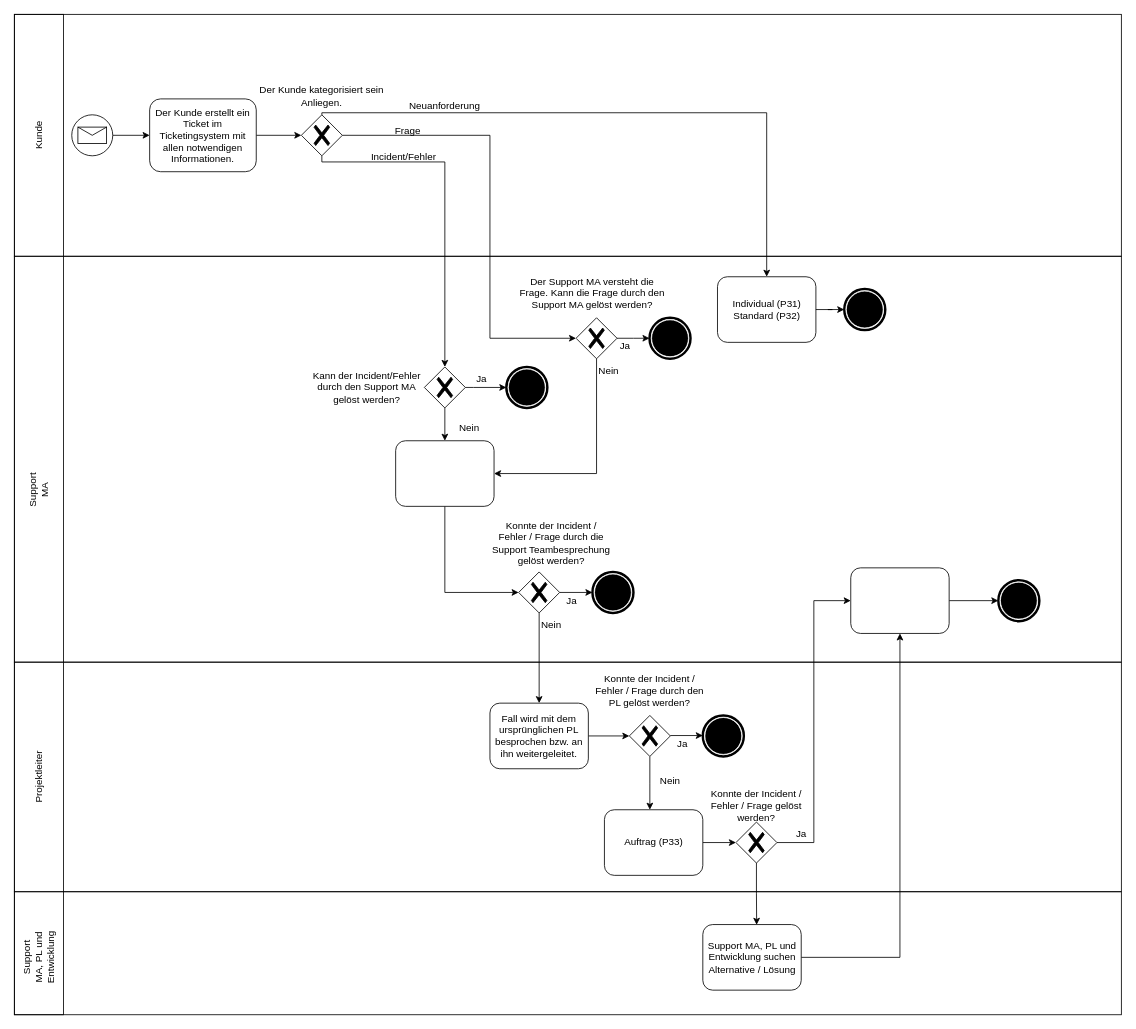
The diagram is 1136 pixels wide and 1029 high, and some of its shapes have lost their labels. Each missing label, with the centre of its shape:
"Der Fall wird in Support Teambesprechung Analysiert" belongs at pixel 444 473.
"Feedback an Kunden bzw. Ausliefern Lösung" belongs at pixel 899 600.
